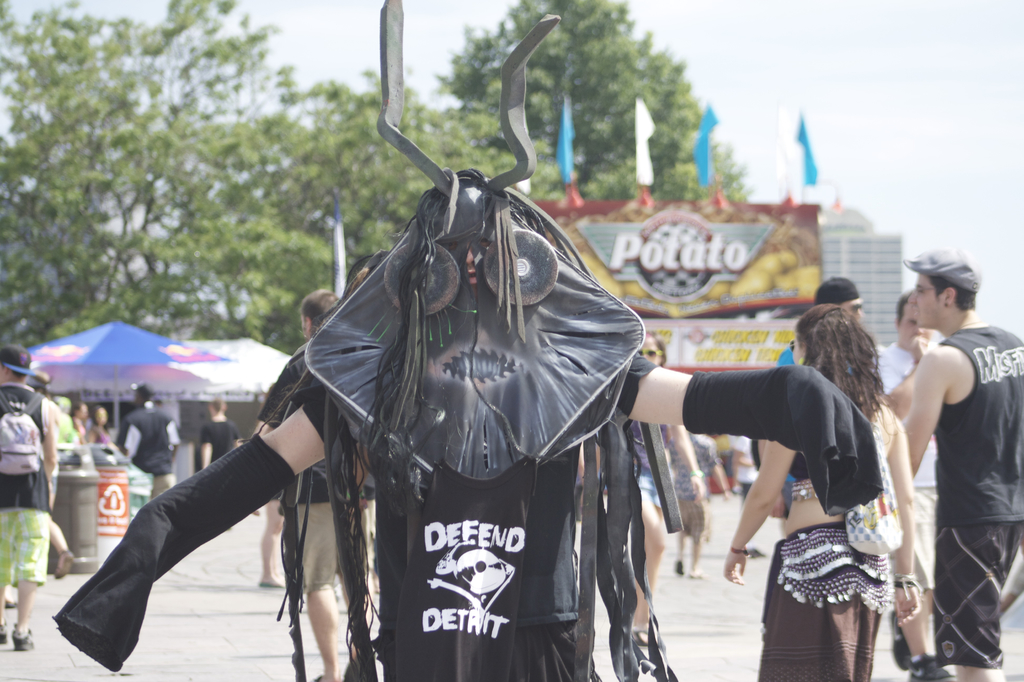Footwear: (908, 653, 958, 681), (891, 608, 907, 669), (10, 624, 35, 650)
